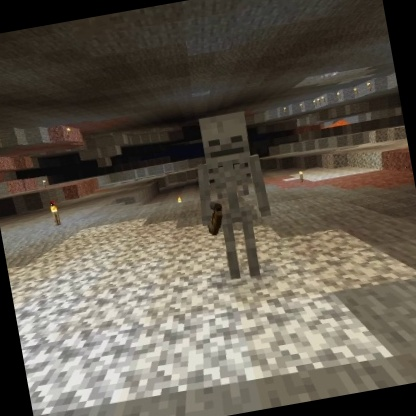skeleton: (181, 104, 286, 288)
